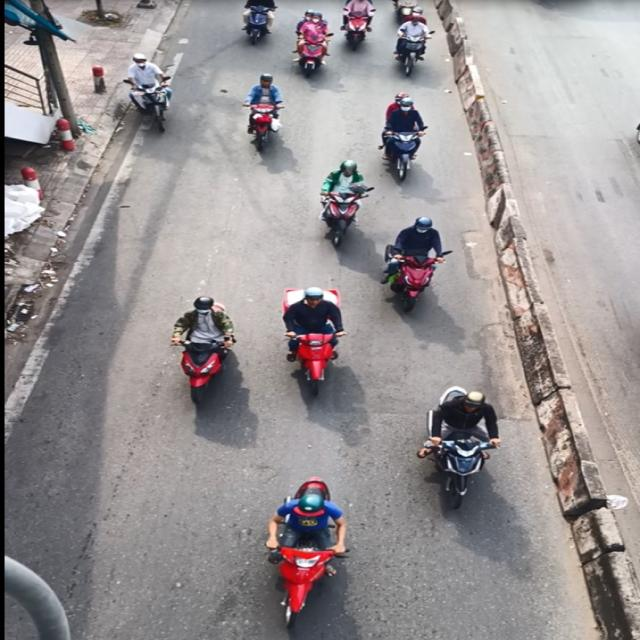motor: (244, 470, 358, 640), (419, 387, 509, 512), (264, 285, 349, 390), (153, 285, 227, 404), (377, 206, 449, 323), (316, 159, 370, 266), (371, 89, 424, 189)
